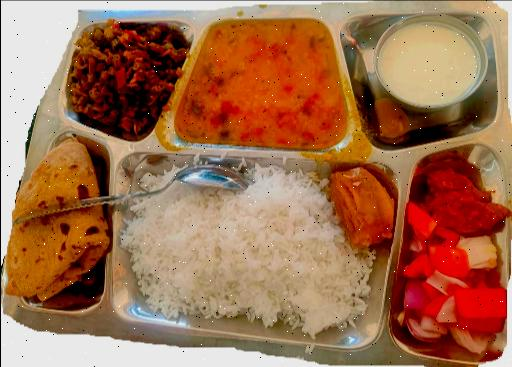Curd: (370, 17, 494, 120)
Dal: (186, 18, 346, 139)
Pickle: (420, 153, 506, 227)
Rice: (130, 166, 370, 332)
Roti: (10, 141, 106, 306)
Sweet: (326, 162, 398, 250)
Vegetable: (406, 237, 510, 362), (70, 18, 171, 130)
